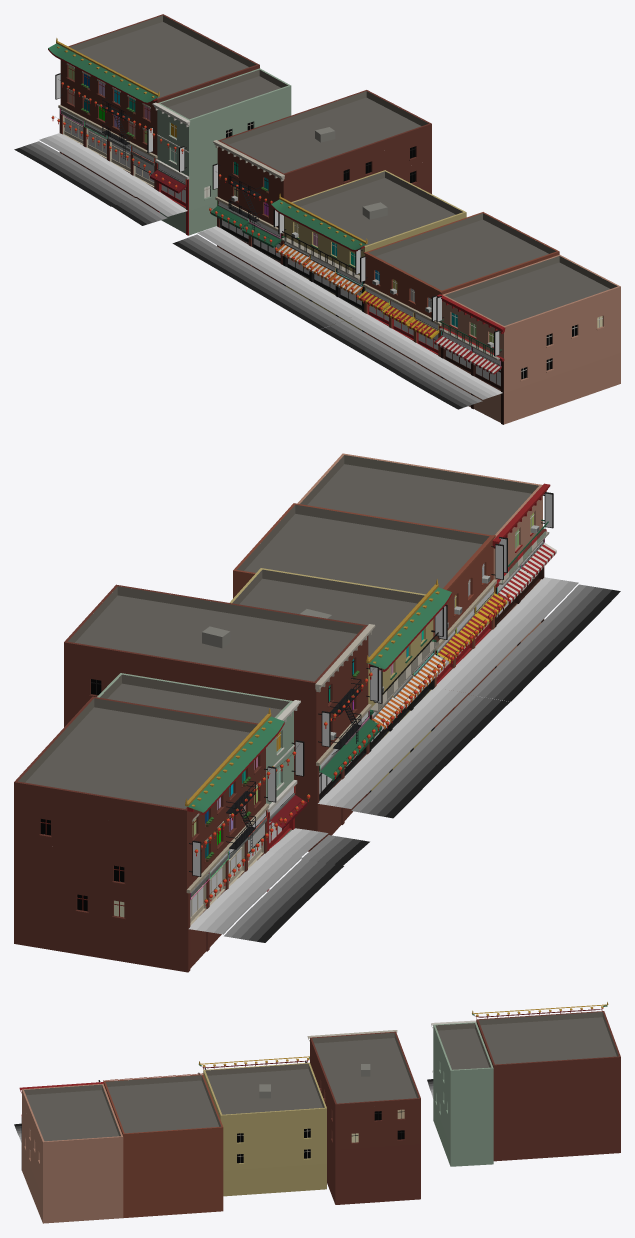
3 renders of one model, top to bottom at view 1: azimuth 30°, elevation 25°; view 2: azimuth 150°, elevation 25°; view 3: azimuth 270°, elevation 25°, orthographic. The views are drawn at different scales.
Parts seen in each view (by area): view 1: L0_roof, L0_stucco, L0_ground, L0_brickred, L0_d_metal, L0_stone, L0_d_fabric, L0_d_paint, L0_clear, L0_sign, L0_rooftile, L0_cwin (+5 smaller); view 2: L0_roof, L0_brickred, L0_ground, L0_d_metal, L0_stone, L0_d_fabric, L0_d_paint, L0_rooftile, L0_stucco, L0_sign, L0_d_stone, L0_clear (+4 smaller); view 3: L0_roof, L0_d_brickred, L0_stucco, L0_d_stucco, L0_brickred, L0_stone, L0_d_paint, L0_win, L0_d_metal.
Boxes of the visible parts, x1,y1,x2,y2 form: L0_roof: (70, 15, 617, 325); L0_stucco: (157, 86, 620, 424); L0_ground: (14, 133, 502, 409); L0_brickred: (60, 60, 441, 375); L0_d_metal: (55, 67, 501, 390); L0_stone: (58, 14, 620, 361); L0_d_fabric: (52, 85, 501, 374); L0_d_paint: (48, 41, 503, 360); L0_clear: (64, 116, 500, 385); L0_sign: (56, 74, 500, 365); L0_rooftile: (48, 43, 366, 249); L0_cwin: (68, 66, 493, 343); L0_roof: (18, 455, 538, 808); L0_brickred: (14, 539, 493, 972); L0_ground: (189, 577, 620, 942); L0_d_metal: (189, 492, 553, 925); L0_stone: (14, 453, 550, 893); L0_d_fabric: (196, 543, 556, 906); L0_d_paint: (185, 491, 549, 861); L0_rooftile: (185, 587, 451, 812); L0_stucco: (266, 495, 542, 840); L0_sign: (193, 493, 552, 888); L0_d_stone: (187, 533, 544, 972); L0_clear: (190, 571, 537, 917); L0_roof: (24, 1012, 618, 1141); L0_d_brickred: (103, 1020, 620, 1217); L0_stucco: (22, 1025, 450, 1222); L0_d_stucco: (43, 1068, 493, 1223); L0_brickred: (310, 1038, 420, 1204); L0_stone: (19, 1011, 620, 1142); L0_d_paint: (21, 1004, 606, 1093); L0_win: (237, 1109, 404, 1163); L0_d_metal: (98, 1061, 370, 1098).
Size of the model in its own units: 37.96 by 20.35 by 86.37.
